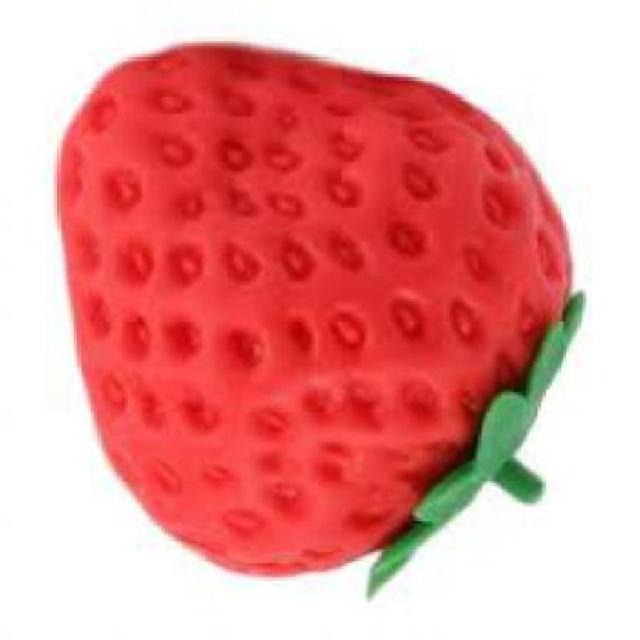BIODEGRADABLE: (52, 42, 574, 580)
